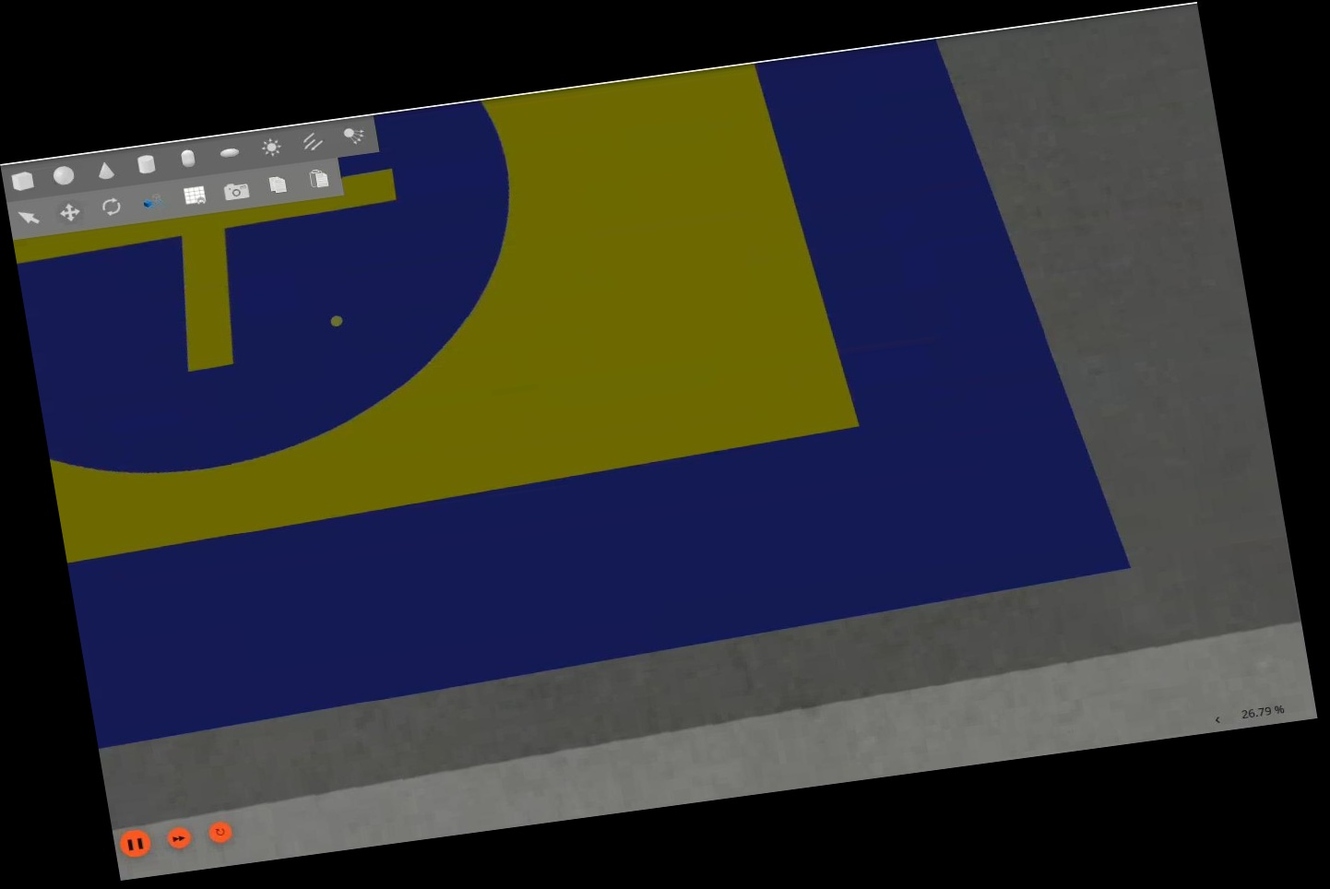large_base: (0, 22, 1140, 748)
